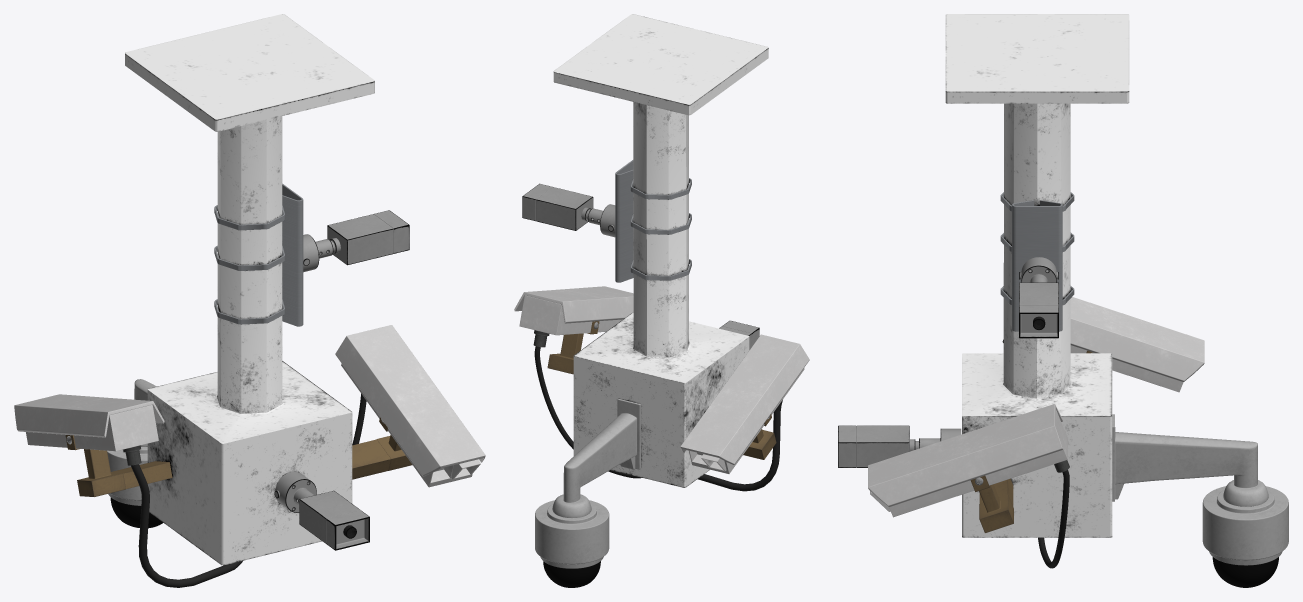
The model's file is security_camera.glb.
The picture shows the model from 3 angles, left to right: view 1: azimuth 30°, elevation 25°; view 2: azimuth 150°, elevation 25°; view 3: azimuth 270°, elevation 25°; orthographic projection. The views are drawn at different scales.
Visible parts, largest first — view 1: Base_2, CAM002_10, CAM001_4, Bracket001_26, Front_Cam002_24, Front_Cam001_22, LEG001_8, Wire-2_18, LEG002_14, Object_48, Object_51; view 2: Base_2, CAM001_4, Object_48, CAM002_10, Object_45, Bracket001_26, Front_Cam001_22, Wire-2_18, Object_51, LEG002_14, Wire-1_20, LEG001_8 (+1 smaller); view 3: Base_2, CAM002_10, CAM001_4, Object_45, Object_48, Bracket001_26, Front_Cam002_24, Front_Cam001_22, LEG002_14, Object_51, Wire-1_20.
Part boxes in pixels (x1,y1,x2,y2): Base_2: [125, 14, 374, 565]; CAM002_10: [335, 325, 485, 487]; CAM001_4: [14, 394, 164, 451]; Bracket001_26: [214, 183, 303, 326]; Front_Cam002_24: [274, 471, 369, 550]; Front_Cam001_22: [303, 210, 409, 272]; LEG001_8: [65, 435, 172, 496]; Wire-2_18: [131, 464, 242, 587]; LEG002_14: [352, 417, 412, 479]; Object_48: [107, 443, 147, 505]; Object_51: [110, 497, 163, 528]; Base_2: [553, 14, 768, 487]; CAM001_4: [680, 334, 809, 473]; Object_48: [535, 494, 609, 568]; CAM002_10: [514, 286, 633, 335]; Object_45: [563, 399, 640, 502]; Bracket001_26: [615, 160, 691, 282]; Front_Cam001_22: [522, 183, 615, 237]; Wire-2_18: [698, 400, 782, 491]; Object_51: [543, 561, 600, 587]; LEG002_14: [547, 321, 599, 374]; Wire-1_20: [534, 346, 641, 478]; LEG001_8: [743, 414, 776, 459]; Base_2: [945, 14, 1129, 537]; CAM002_10: [868, 404, 1067, 517]; CAM001_4: [1070, 297, 1204, 392]; Object_45: [1112, 414, 1257, 501]; Object_48: [1202, 480, 1288, 565]; Bracket001_26: [1000, 192, 1074, 331]; Front_Cam002_24: [838, 425, 961, 467]; Front_Cam001_22: [1019, 257, 1058, 338]; LEG002_14: [970, 475, 1013, 532]; Object_51: [1212, 557, 1278, 587]; Wire-1_20: [1038, 470, 1069, 568].
Bounding box in the file's own units: 177 × 284 × 219.
Materials: 12 (12 with a texture image).
